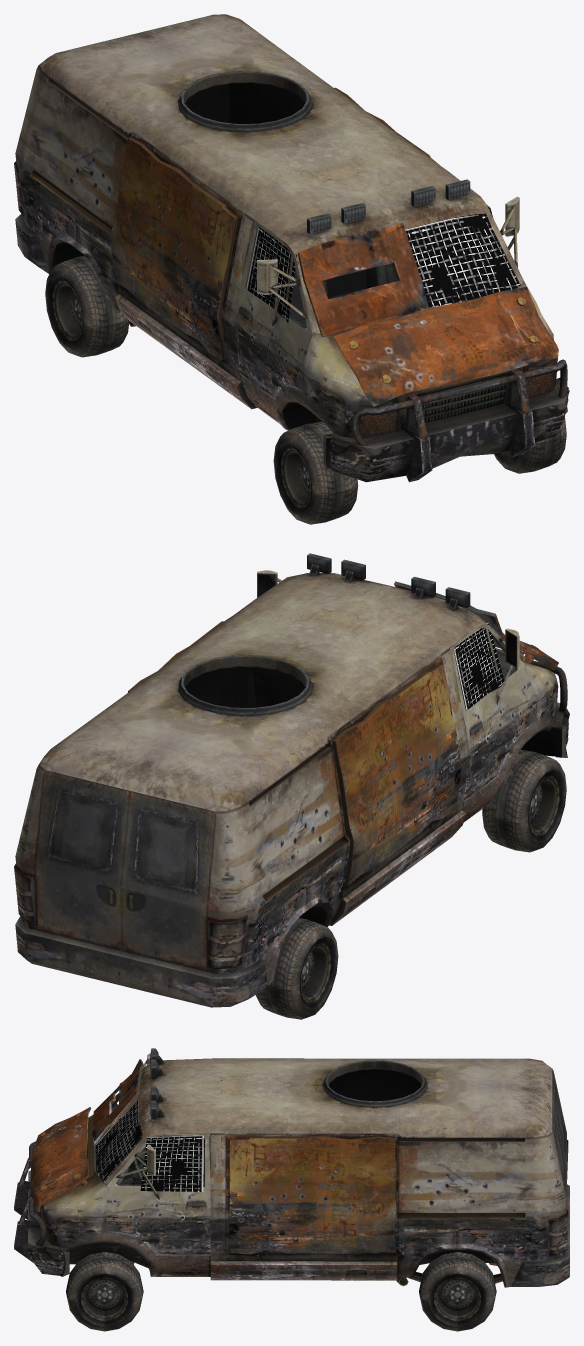
The model's file is van.obj.
3 renders of one model, top to bottom at view 1: azimuth 30°, elevation 25°; view 2: azimuth 150°, elevation 25°; view 3: azimuth 270°, elevation 25°, orthographic. The views are drawn at different scales.
Parts seen in each view (by area): view 1: mesh0158, mesh0157, mesh0160, mesh0233, mesh0231; view 2: mesh0158, mesh0157, mesh0231, mesh0160; view 3: mesh0158, mesh0157, mesh0231, mesh0233, mesh0160.
Boxes of the visible parts, x1,y1,x2,y2 form: mesh0158: [14, 65, 569, 524]; mesh0157: [38, 14, 524, 334]; mesh0160: [298, 222, 428, 337]; mesh0233: [405, 213, 520, 307]; mesh0231: [246, 204, 492, 322]; mesh0158: [14, 570, 569, 1019]; mesh0157: [38, 553, 505, 811]; mesh0231: [295, 575, 504, 710]; mesh0160: [394, 581, 525, 660]; mesh0158: [14, 1053, 569, 1331]; mesh0157: [96, 1048, 552, 1184]; mesh0231: [140, 1064, 203, 1191]; mesh0233: [95, 1100, 141, 1182]; mesh0160: [92, 1059, 143, 1143].
Bounding box in the file's own units: 242 × 240 × 575.
Materials: 2 (2 with a texture image).
